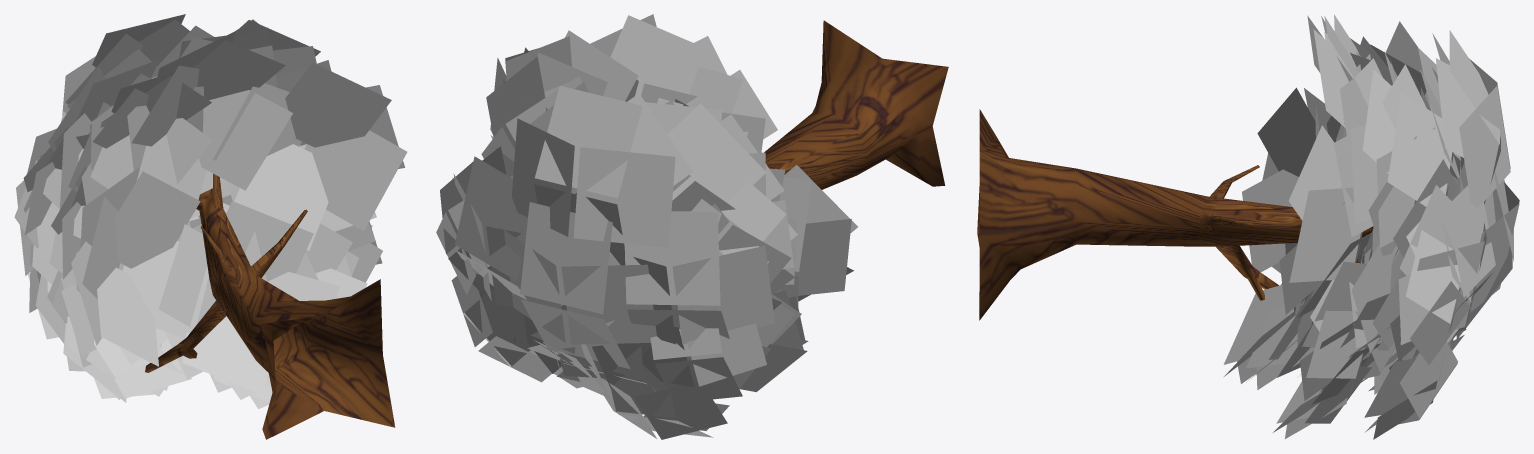
File: tree4.fbx
3 renders of one model, left to right at view 1: azimuth 30°, elevation 25°; view 2: azimuth 150°, elevation 25°; view 3: azimuth 270°, elevation 25°, orthographic. The views are drawn at different scales.
Visible parts, largest first — view 1: Cube; view 2: Cube; view 3: Cube.
Boxes of the visible parts, x1,y1,x2,y2 form: Cube: [14, 14, 407, 439]; Cube: [436, 14, 948, 439]; Cube: [977, 14, 1519, 439].
Size of the model in its own units: 853 by 884 by 1122.
